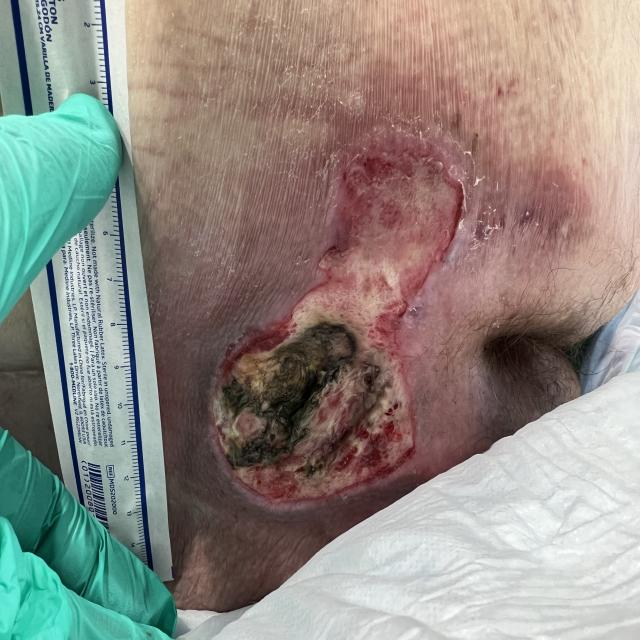Unstageable: (212, 132, 464, 503)
